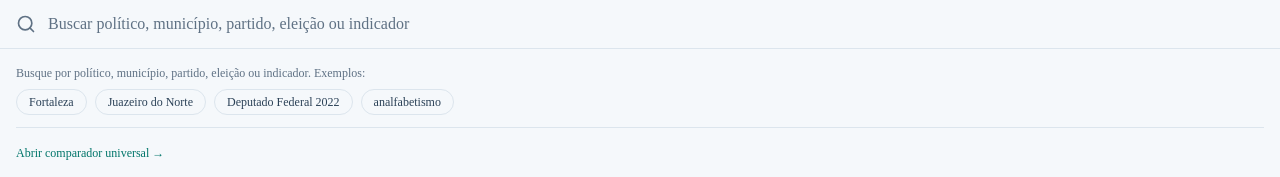
combobox de busca › diz quando não encontra nada
The width and height of the screenshot is (1280, 177).
In the dropdown: (656, 24) [48,12,1264,36], type "zzzz"
Wait 200 ms
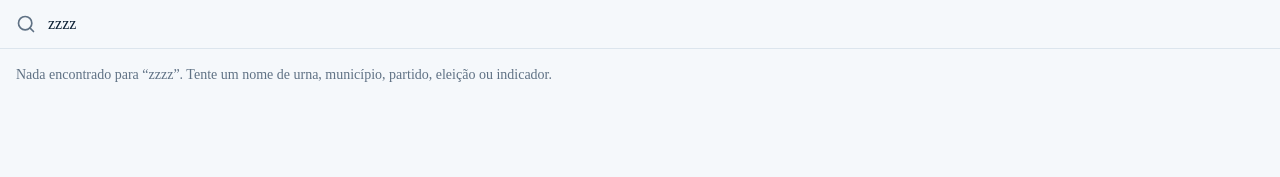
Check: the text "Nada encontrado para “zzzz”. Tente" is shown, box [16,67,552,82]
